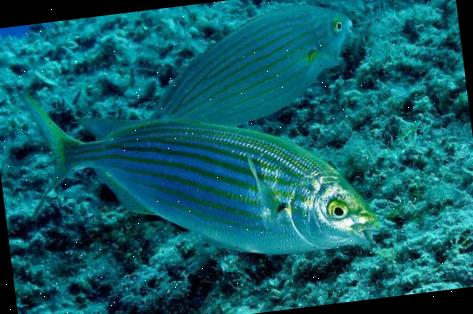fish: (17, 47, 382, 288), (62, 0, 364, 148)
